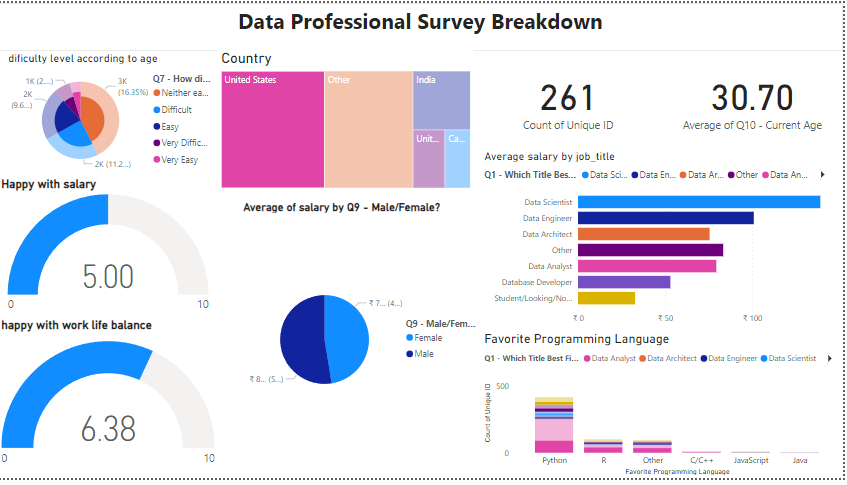

What the dashboard file says about the page in this screenshot:
{"tool":"powerbi","page":{"name":"Page 1","canvas":[1280,720],"ordinal":0},"visuals":[{"type":"textbox","box":[0,0,1280,72.5],"z":0},{"type":"card","fields":{"Values":["CountNonNull(Data Professional Survey.Unique ID)"]},"box":[721.2,72.5,285,148.8],"z":1000},{"type":"card","fields":{"Values":["Avg(Data Professional Survey.Q10 - Current Age)"]},"box":[1006.2,72.5,273.8,148.8],"z":2000},{"type":"barChart","title":"Average salary by job_title","fields":{"Category":["Data Professional Survey.Q1 - Which Title Best Fits your Current Role?.1.1"],"Y":["Avg(Data Professional Survey.avg_salary)"],"Series":["Data Professional Survey.Q1 - Which Title Best Fits your Current Role?.1.1"]},"box":[731.7,221.7,536.7,275],"z":3000},{"type":"columnChart","title":"Favorite Programming Language","fields":{"Category":["Data Professional Survey.Q5 - Favorite Programming Language.1"],"Y":["CountNonNull(Data Professional Survey.Unique ID)"],"Series":["Data Professional Survey.Q1 - Which Title Best Fits your Current Role?.1.1"]},"box":[731.7,496.7,548.3,223.3],"z":4000},{"type":"treemap","title":"Country","fields":{"Group":["Data Professional Survey.Q11 - Which Country do you live in?.1"],"Values":["CountNonNull(Data Professional Survey.Q11 - Which Country do you live in?.1)"]},"box":[333.5,71.9,387.4,214.2],"z":5000},{"type":"gauge","title":"Happy with salary","fields":{"Y":["Avg(Data Professional Survey.Q6 - How Happy are you in your Current Position with the following? (Salary))"],"MinValue":["Min(Data Professional Survey.Q6 - How Happy are you in your Current Position with the following? (Salary))"],"MaxValue":["Max(Data Professional Survey.Q6 - How Happy are you in your Current Position with the following? (Salary))"]},"box":[0,263.2,333.5,214.2],"z":6000},{"type":"gauge","title":"happy with work life balance","fields":{"Y":["Avg(Data Professional Survey.Q6 - How Happy are you in your Current Position with the following? (Work/Life Balance))"],"MinValue":["Min(Data Professional Survey.Q6 - How Happy are you in your Current Position with the following? (Work/Life Balance))"],"MaxValue":["Max(Data Professional Survey.Q6 - How Happy are you in your Current Position with the following? (Work/Life Balance))"]},"box":[0,477.3,333.5,241.9],"z":7000},{"type":"pieChart","title":"Average of salary by Q9 - Male/Female?","fields":{"Category":["Data Professional Survey.Q9 - Male/Female?"],"Y":["Avg(Data Professional Survey.avg_salary)"]},"box":[366.2,299.2,366.2,403.8],"z":7001},{"type":"pieChart","title":"dificulty level according to age","fields":{"Category":["Data Professional Survey.Q7 - How difficult was it for you to break into Data?"],"Y":["Sum(Data Professional Survey.Q10 - Current Age)"]},"box":[10,72,323,191],"z":7002}]}

Visuals, with their boxes in screenshot pixels (x1, y1, x2, y2), scaled from the page's 1280x720 canvas onto the 847x485 screenshot:
textbox: box=[0, 0, 846, 49]
card - CountNonNull(Data Professional Survey.Unique ID): box=[477, 49, 666, 149]
card - Avg(Data Professional Survey.Q10 - Current Age): box=[666, 49, 846, 149]
"Average salary by job_title" barChart: box=[484, 149, 839, 335]
"Favorite Programming Language" columnChart: box=[484, 335, 846, 484]
"Country" treemap: box=[221, 48, 477, 193]
"Happy with salary" gauge: box=[0, 177, 221, 322]
"happy with work life balance" gauge: box=[0, 322, 221, 484]
"Average of salary by Q9 - Male/Female?" pieChart: box=[242, 202, 485, 474]
"dificulty level according to age" pieChart: box=[7, 48, 220, 177]
